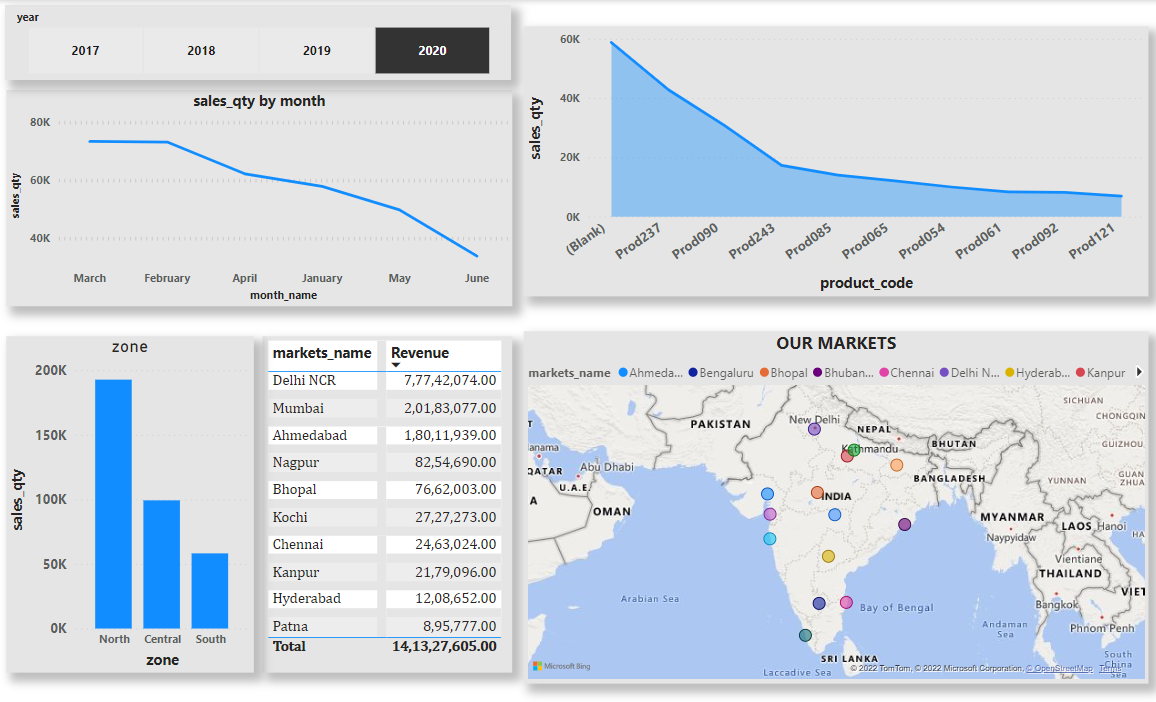

The page's visual inventory and layout, read from the dashboard file:
{"tool":"powerbi","page":{"name":"Page 2","canvas":[1280,800],"ordinal":1},"visuals":[{"type":"lineChart","title":"sales_qty by month","fields":{"Category":["sales date.month_name"],"Y":["Sum(sales transactions.sales_qty)"]},"box":[12.4,98.9,556.2,237.6],"z":0},{"type":"slicer","fields":{"Values":["sales date.year"]},"box":[11,5.5,556.2,82.4],"z":1000},{"type":"tableEx","fields":{"Values":["sales markets.markets_name","BaseMeasure.Revenue"]},"box":[293.9,369.4,274.7,369.4],"z":2000},{"type":"columnChart","title":"zone","fields":{"Category":["sales markets.zone"],"Y":["Sum(sales transactions.sales_qty)"]},"box":[12.4,369.4,271.9,369.4],"z":3000},{"type":"areaChart","fields":{"Y":["Sum(sales transactions.sales_qty)"],"Category":["sales products.product_code"]},"box":[580.9,28.8,686.7,296.7],"z":3001},{"type":"map","title":"OUR MARKETS","fields":{"Category":["sales markets.markets_name"],"Series":["sales markets.markets_name"]},"box":[580.9,363.9,686.7,387.3],"z":3002}]}

Visuals, with their boxes in screenshot pixels (x1, y1, x2, y2), scaled from the page's 1280x800 canvas onto the 1156x702 screenshot:
"sales_qty by month" lineChart: BBox(11, 87, 514, 295)
slicer - sales date.year: BBox(10, 5, 512, 77)
tableEx - sales markets.markets_name x BaseMeasure.Revenue: BBox(265, 324, 514, 648)
"zone" columnChart: BBox(11, 324, 257, 648)
areaChart - Sum(sales transactions.sales_qty) x sales products.product_code: BBox(525, 25, 1145, 286)
"OUR MARKETS" map: BBox(525, 319, 1145, 659)
